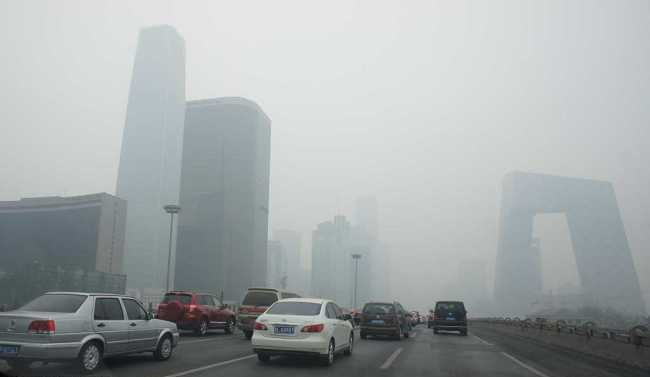car: (0, 289, 180, 372), (251, 296, 356, 365), (151, 289, 232, 335), (231, 287, 295, 338), (356, 300, 414, 340), (432, 300, 468, 335)
